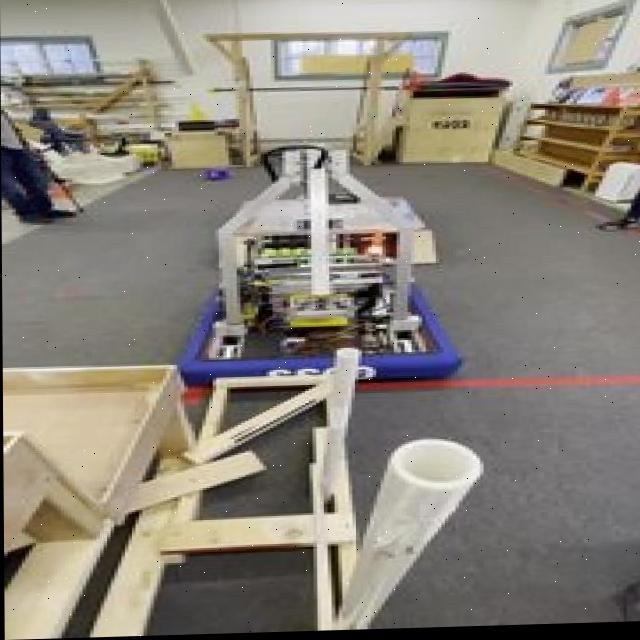robot: (170, 124, 472, 395)
